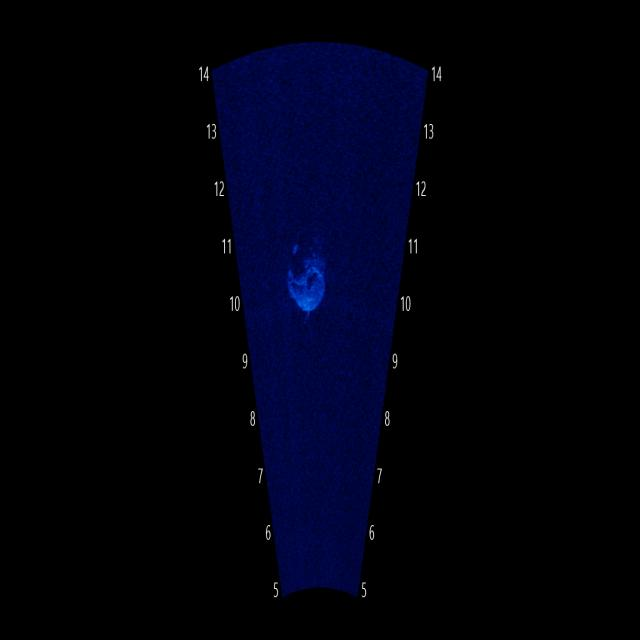circle: (278, 228, 340, 318)
